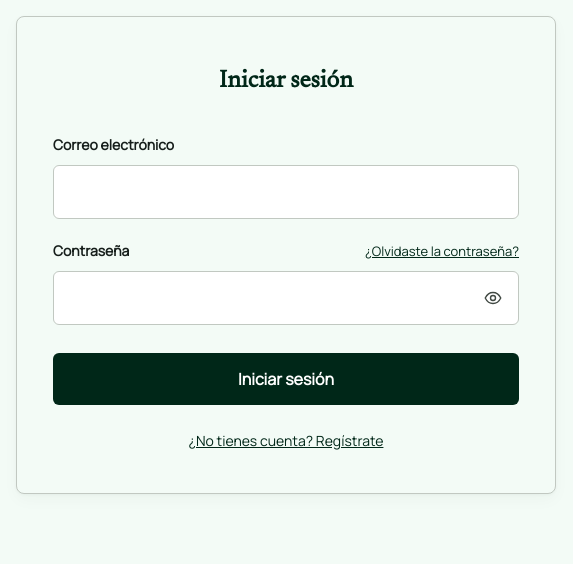
Test: Login Page › handles 429 rate limit error showing localized message
In the field labelled "Correo electrónico": (286, 192) [53,165,519,219], type "hortelano@example.com"
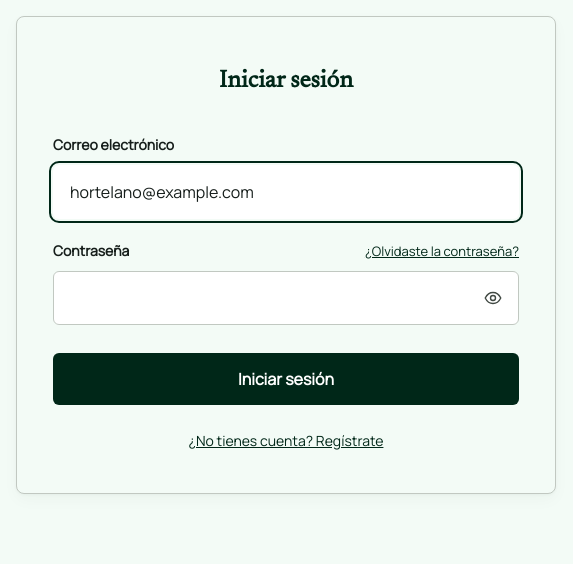
In the password field labelled "Contraseña": (286, 298) [53,271,519,325], type "Password123!"
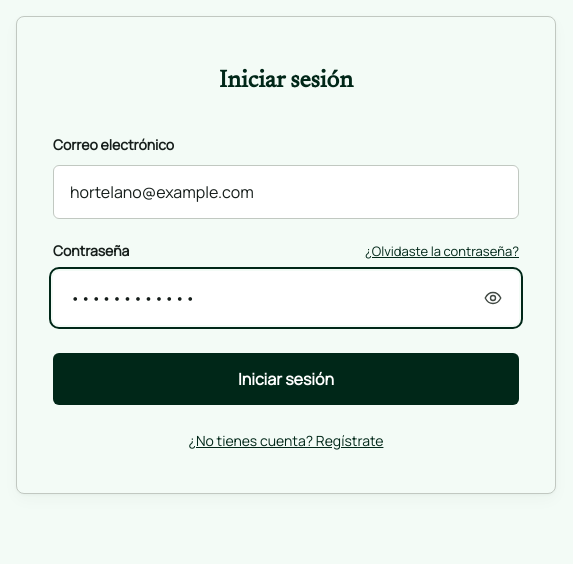
Click the button "Iniciar sesión": (286, 379) [53,353,519,405]
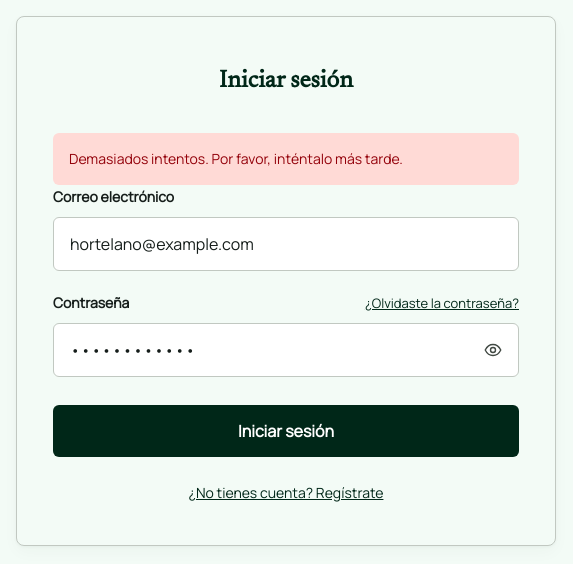
Check: the text "Demasiados intentos. Por favor, inténtalo más tarde." is shown, box [69,149,403,168]
